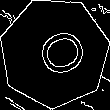O_SW: (23, 23, 86, 83)
